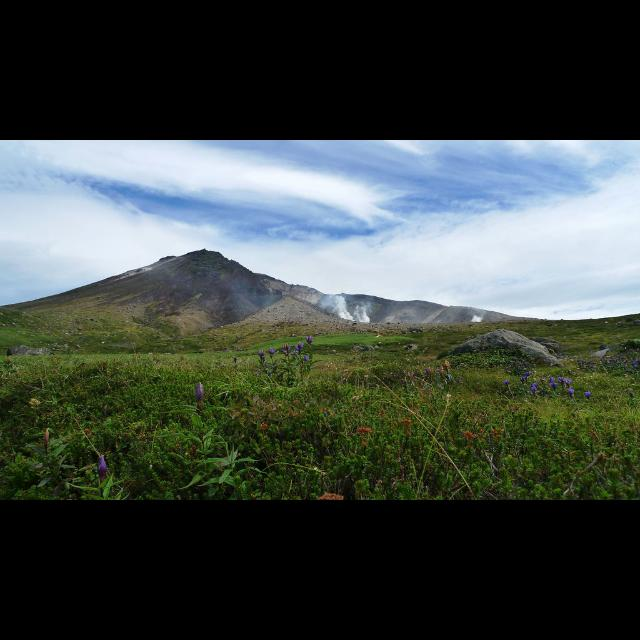Flower: (98, 454, 109, 478), (548, 377, 570, 388), (318, 492, 342, 500), (195, 382, 203, 400), (282, 343, 292, 353), (294, 342, 304, 351), (464, 429, 474, 437), (258, 349, 266, 357), (584, 390, 592, 398), (269, 346, 275, 356), (306, 334, 312, 344), (566, 388, 574, 394), (524, 370, 530, 376), (505, 379, 509, 387), (532, 384, 536, 392), (358, 428, 370, 430), (521, 376, 525, 382), (305, 356, 309, 360)
